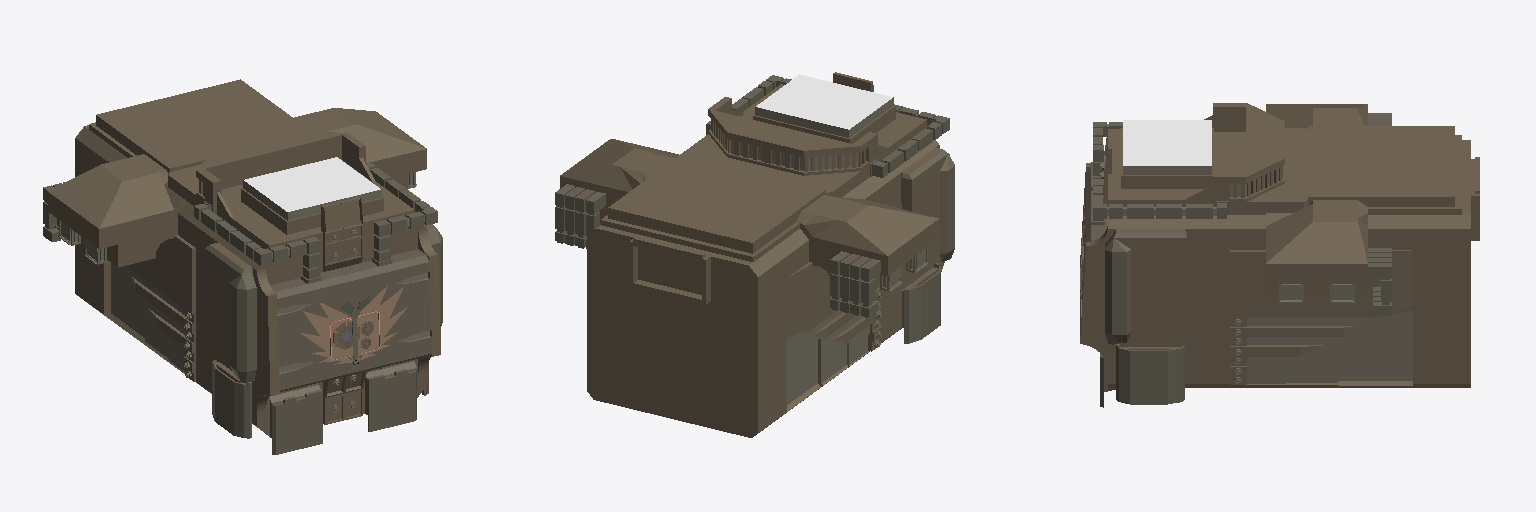
Rendered from t45body.obj.
3 renders of one model, left to right at view 1: azimuth 30°, elevation 25°; view 2: azimuth 150°, elevation 25°; view 3: azimuth 270°, elevation 25°, orthographic.
Bounding box in the file's own units: 1.92 × 1.3 × 2.03.